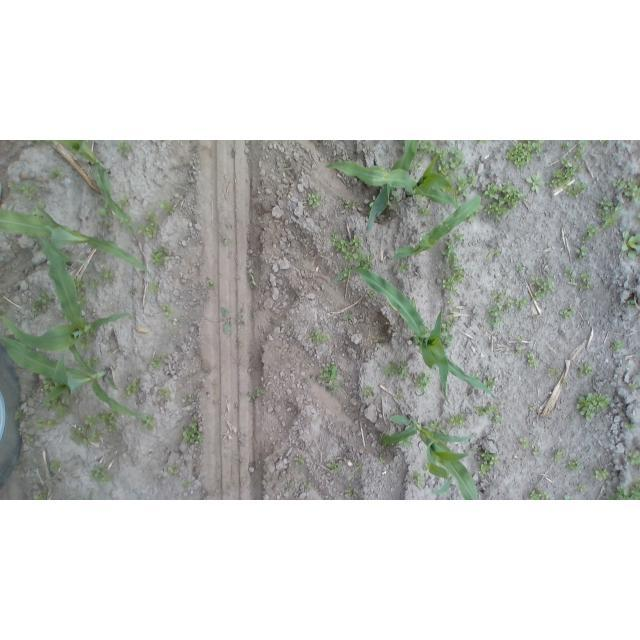Maize: (329, 268, 495, 408), (3, 236, 132, 355), (0, 337, 144, 418), (1, 204, 156, 276), (376, 416, 480, 501), (326, 153, 460, 208), (57, 140, 135, 234), (391, 195, 482, 261), (364, 141, 420, 234), (88, 488, 93, 500)
Weeds: (481, 180, 523, 220), (331, 230, 375, 268), (486, 289, 527, 328), (440, 240, 466, 297), (548, 157, 584, 197), (502, 141, 544, 168), (577, 392, 611, 422), (377, 354, 415, 378), (597, 199, 624, 230), (318, 360, 343, 392), (529, 274, 556, 303), (136, 211, 159, 242), (436, 145, 462, 172), (606, 480, 640, 500), (473, 404, 503, 424), (30, 291, 56, 314), (621, 230, 640, 261), (180, 420, 202, 446), (8, 182, 38, 201), (526, 172, 547, 197), (479, 451, 497, 478), (99, 411, 121, 433), (71, 426, 92, 448), (73, 278, 88, 307), (51, 398, 71, 418), (624, 177, 640, 202), (412, 371, 431, 392), (456, 173, 477, 191), (90, 464, 109, 483), (306, 280, 327, 296), (114, 140, 132, 158), (582, 226, 601, 242), (625, 449, 640, 469), (336, 196, 359, 209), (151, 247, 167, 265), (307, 192, 325, 208), (528, 489, 554, 500), (416, 141, 438, 154), (311, 329, 330, 344), (426, 420, 446, 434), (122, 380, 138, 397), (221, 307, 230, 337), (447, 415, 467, 428), (140, 414, 156, 430), (442, 317, 458, 333), (84, 413, 101, 428), (579, 274, 594, 291), (160, 201, 176, 216), (487, 248, 502, 264), (576, 363, 593, 377), (247, 273, 260, 291), (564, 268, 577, 286), (152, 355, 167, 370), (48, 166, 64, 180), (412, 472, 425, 489), (612, 175, 625, 192), (327, 460, 342, 474), (101, 269, 115, 283), (611, 338, 626, 351), (558, 308, 574, 320), (35, 418, 51, 430), (553, 448, 565, 464), (595, 470, 609, 483), (576, 245, 589, 259), (567, 458, 581, 471), (248, 388, 263, 400), (157, 388, 175, 398), (391, 190, 401, 207), (440, 334, 453, 347), (362, 384, 373, 399), (33, 489, 48, 500), (86, 357, 98, 370), (421, 205, 434, 217), (518, 439, 532, 450), (79, 337, 90, 351), (412, 162, 424, 173), (90, 431, 102, 442), (486, 377, 498, 388), (118, 198, 131, 208), (396, 390, 406, 403), (49, 459, 62, 469), (161, 303, 171, 316), (549, 368, 562, 378), (42, 379, 55, 389), (184, 395, 196, 405), (625, 424, 640, 432), (526, 352, 536, 364), (533, 446, 543, 457), (207, 277, 216, 289), (454, 232, 466, 241), (167, 466, 180, 474), (399, 440, 412, 448), (24, 433, 37, 441), (413, 196, 426, 204), (576, 140, 589, 148), (148, 281, 158, 291), (90, 277, 100, 287), (99, 208, 110, 217), (343, 311, 352, 322), (528, 403, 537, 413), (625, 299, 635, 308), (447, 300, 457, 309), (559, 141, 569, 150), (294, 458, 306, 465), (343, 489, 355, 496), (401, 262, 410, 271), (366, 291, 375, 300), (515, 265, 524, 274), (421, 462, 431, 470), (409, 296, 417, 306), (221, 236, 229, 246), (302, 480, 310, 490), (473, 140, 489, 145), (575, 151, 585, 159), (183, 481, 194, 488), (578, 484, 586, 493), (13, 411, 21, 419), (630, 381, 639, 388), (561, 377, 567, 387), (514, 348, 522, 355), (341, 273, 347, 281), (379, 458, 386, 464), (563, 494, 571, 499), (473, 374, 481, 379), (599, 140, 606, 145), (636, 214, 640, 219)
